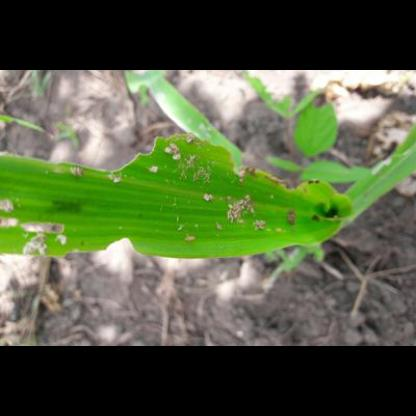agujero: (0, 132, 164, 178), (60, 230, 146, 260), (249, 174, 316, 192), (224, 156, 260, 180)
